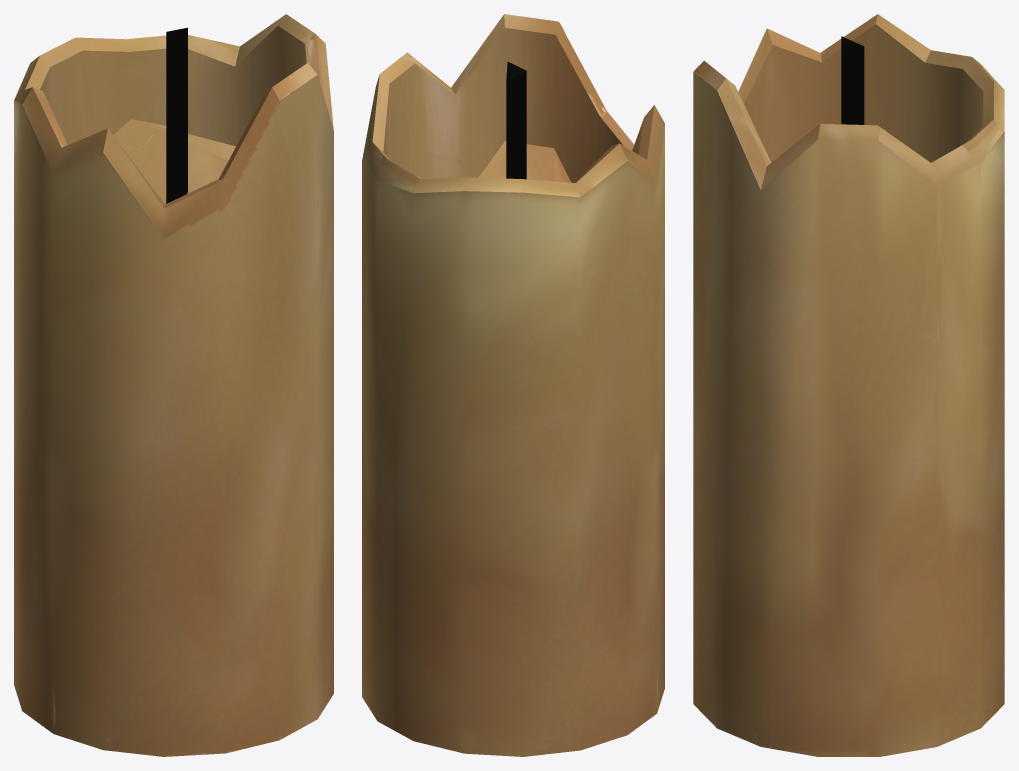
Rendered from kynttila2.fbx.
The picture shows the model from 3 angles, left to right: view 1: azimuth 30°, elevation 25°; view 2: azimuth 150°, elevation 25°; view 3: azimuth 270°, elevation 25°; orthographic projection. The views are drawn at different scales.
Parts seen in each view (by area): view 1: kynttila2; view 2: kynttila2; view 3: kynttila2.
Boxes of the visible parts, x1,y1,x2,y2 form: kynttila2: [14, 14, 333, 756]; kynttila2: [362, 14, 664, 756]; kynttila2: [693, 14, 1004, 756].
Size of the model in its own units: 196 by 456 by 196.
